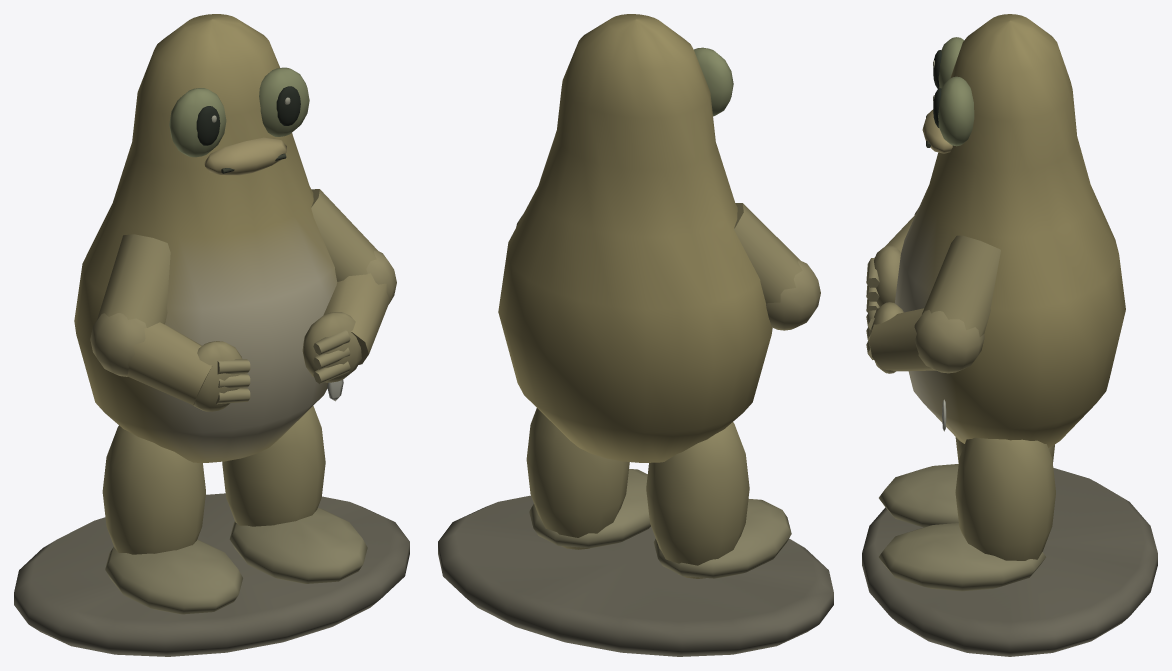
Rendered from milkyfrog-plaster.glb.
3 renders of one model, left to right at view 1: azimuth 30°, elevation 25°; view 2: azimuth 150°, elevation 25°; view 3: azimuth 270°, elevation 25°, orthographic. The views are drawn at different scales.
Visible parts, largest first — view 1: worn-plaster, dark-pigment; view 2: worn-plaster; view 3: worn-plaster, dark-pigment.
Boxes of the visible parts, x1,y1,x2,y2 form: worn-plaster: (14, 14, 409, 656); dark-pigment: (196, 86, 300, 173); worn-plaster: (438, 14, 833, 656); worn-plaster: (862, 14, 1157, 656); dark-pigment: (926, 50, 941, 147).
Size of the model in its own units: 1.47 by 2.19 by 1.06.
